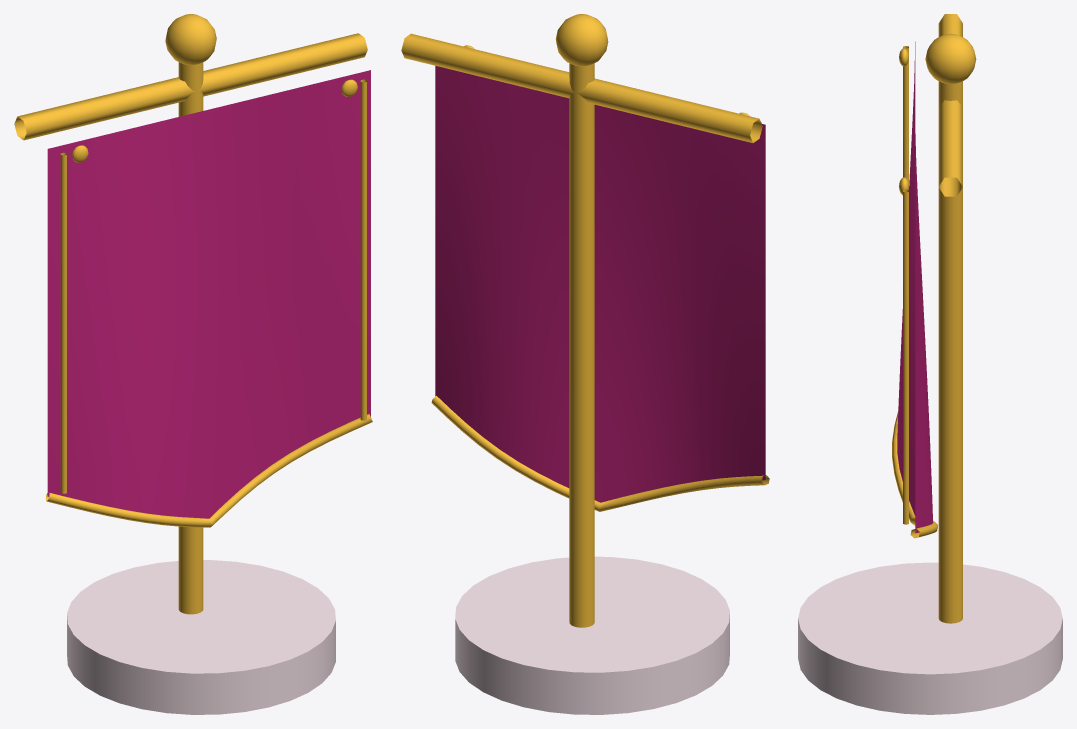
The model's file is chess.banner.crest.lod1.glb.
The picture shows the model from 3 angles, left to right: view 1: azimuth 30°, elevation 25°; view 2: azimuth 150°, elevation 25°; view 3: azimuth 270°, elevation 25°; orthographic projection. The views are drawn at different scales.
Parts seen in each view (by area): view 1: banner_cloth, banner_foot, crossbar, banner_hem, banner_pole, banner_edge_braid.001, banner_edge_braid, banner_finial; view 2: banner_cloth, banner_foot, banner_pole, crossbar, banner_hem, banner_finial; view 3: banner_foot, banner_pole, banner_cloth, crossbar, banner_finial, banner_edge_braid.001, banner_hem, banner_edge_braid.
Boxes of the visible parts, <box> form: banner_cloth: <box>47,70,370,518</box>; banner_foot: <box>67,560,335,714</box>; crossbar: <box>14,33,367,140</box>; banner_hem: <box>45,414,372,527</box>; banner_pole: <box>178,62,203,614</box>; banner_edge_braid.001: <box>360,79,366,420</box>; banner_edge_braid: <box>60,152,66,493</box>; banner_finial: <box>165,14,216,65</box>; banner_cloth: <box>435,66,765,502</box>; banner_foot: <box>455,556,729,714</box>; banner_pole: <box>569,63,594,627</box>; crossbar: <box>401,33,762,142</box>; banner_hem: <box>431,396,769,511</box>; banner_finial: <box>556,14,608,66</box>; banner_foot: <box>798,562,1062,714</box>; banner_pole: <box>938,81,962,623</box>; banner_cloth: <box>897,41,932,533</box>; crossbar: <box>938,14,962,196</box>; banner_finial: <box>925,33,976,83</box>; banner_edge_braid.001: <box>903,189,908,524</box>; banner_hem: <box>892,411,937,538</box>; banner_edge_braid: <box>903,46,908,189</box>.
Bounding box in the file's own units: 0.4222 × 0.75 × 0.2889.
